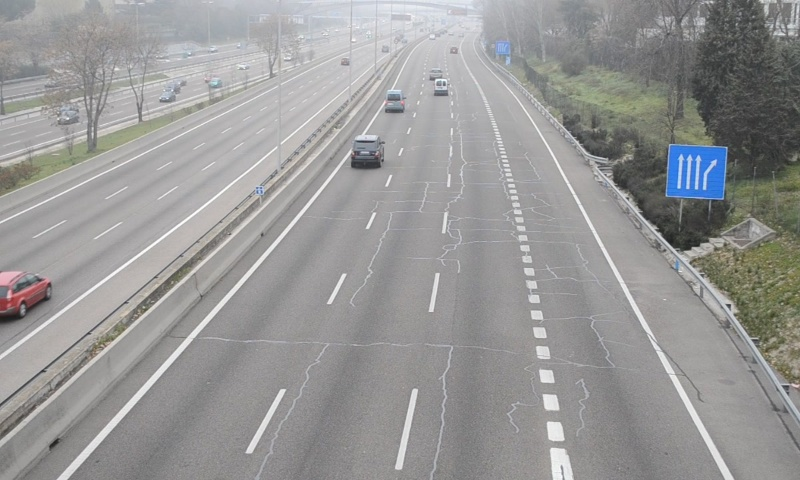car: (350, 135, 383, 167)
van: (384, 89, 404, 114)
